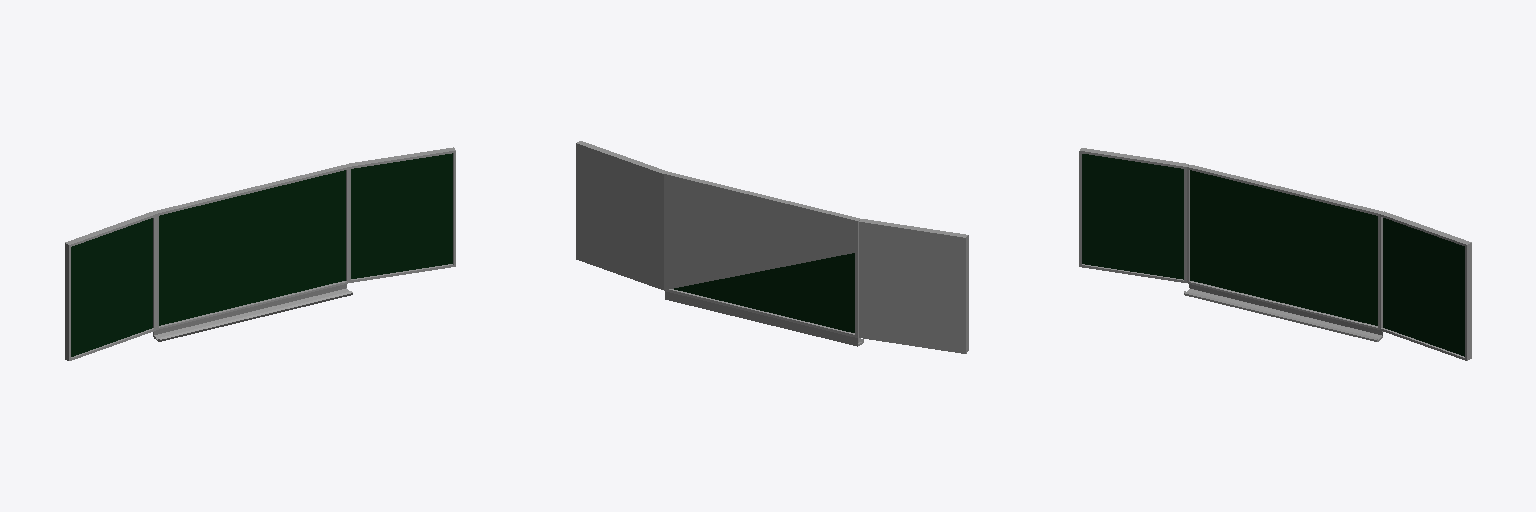
File: blackboard.obj
3 views of the same model, side by side, from view 1: azimuth 30°, elevation 25°; view 2: azimuth 150°, elevation 25°; view 3: azimuth 330°, elevation 25° (orthographic).
Visible parts, largest first — view 1: bord_Cube, zijbord_rechts.000_Cube.009, zijbord_rechts.001_Cube.008, rand.001_Cube.003, zijbord_rechts_rand.001_Cube.007, zijbord_rechts_rand.000_Cube.005; view 2: rand.001_Cube.003, zijbord_rechts_rand.001_Cube.007, zijbord_rechts_rand.000_Cube.005, bord_Cube; view 3: bord_Cube, zijbord_rechts.001_Cube.008, zijbord_rechts.000_Cube.009, rand.001_Cube.003, zijbord_rechts_rand.000_Cube.005, zijbord_rechts_rand.001_Cube.007.
Part boxes in pixels (left/top/right/bottom): bord_Cube: left=159, top=170, right=345, bottom=325; zijbord_rechts.000_Cube.009: left=351, top=153, right=452, bottom=278; zijbord_rechts.001_Cube.008: left=71, top=218, right=152, bottom=356; rand.001_Cube.003: left=153, top=164, right=352, bottom=341; zijbord_rechts_rand.001_Cube.007: left=65, top=212, right=156, bottom=360; zijbord_rechts_rand.000_Cube.005: left=347, top=147, right=455, bottom=282; rand.001_Cube.003: left=664, top=172, right=863, bottom=346; zijbord_rechts_rand.001_Cube.007: left=859, top=219, right=968, bottom=353; zijbord_rechts_rand.000_Cube.005: left=576, top=141, right=667, bottom=289; bord_Cube: left=674, top=253, right=854, bottom=332; bord_Cube: left=1190, top=170, right=1377, bottom=325; zijbord_rechts.001_Cube.008: left=1082, top=154, right=1183, bottom=279; zijbord_rechts.000_Cube.009: left=1383, top=218, right=1464, bottom=356; rand.001_Cube.003: left=1184, top=165, right=1382, bottom=341; zijbord_rechts_rand.000_Cube.005: left=1380, top=211, right=1471, bottom=360; zijbord_rechts_rand.001_Cube.007: left=1079, top=148, right=1188, bottom=282.
Bounding box in the file's own units: 8.25 × 2.56 × 0.5165.